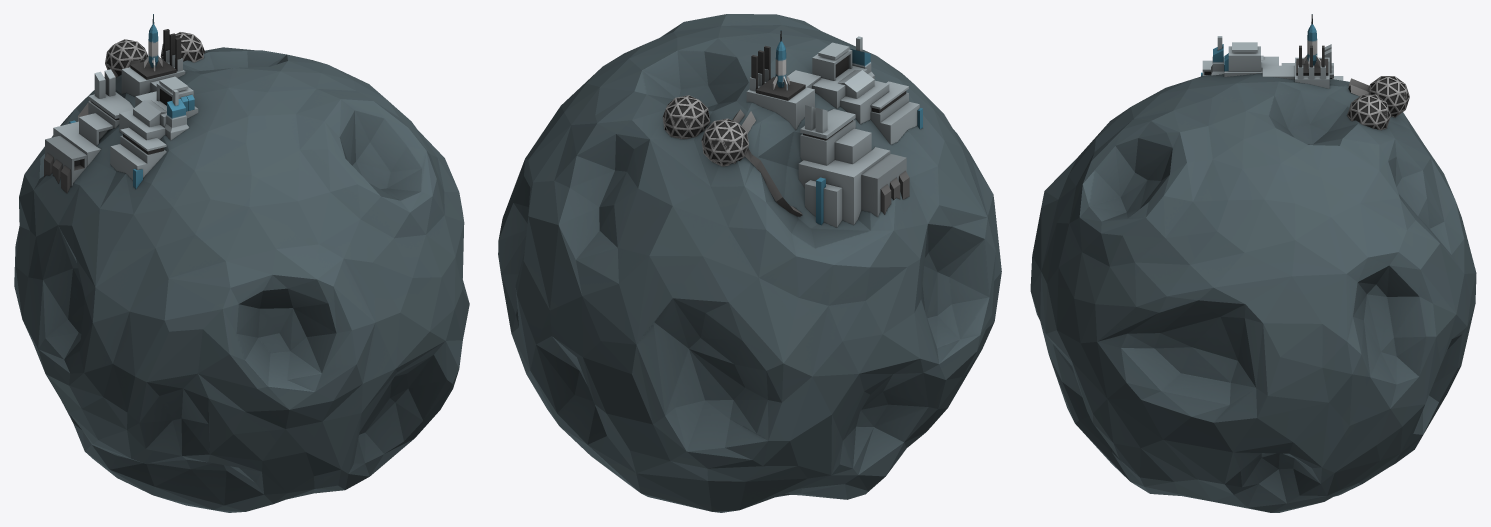
The model's file is moon_base.glb.
3 views of the same model, side by side, from view 1: azimuth 30°, elevation 25°; view 2: azimuth 150°, elevation 25°; view 3: azimuth 270°, elevation 25° (orthographic). The views are drawn at different scales.
Visible parts, largest first — view 1: Moon Base; view 2: Moon Base; view 3: Moon Base.
Boxes of the visible parts, left/top/right/bottom form: Moon Base: left=14, top=14, right=469, bottom=512; Moon Base: left=498, top=14, right=1001, bottom=512; Moon Base: left=1030, top=14, right=1476, bottom=512.
Bounding box in the file's own units: 2.82 × 3.25 × 2.89.
1 material, 1 textured.
